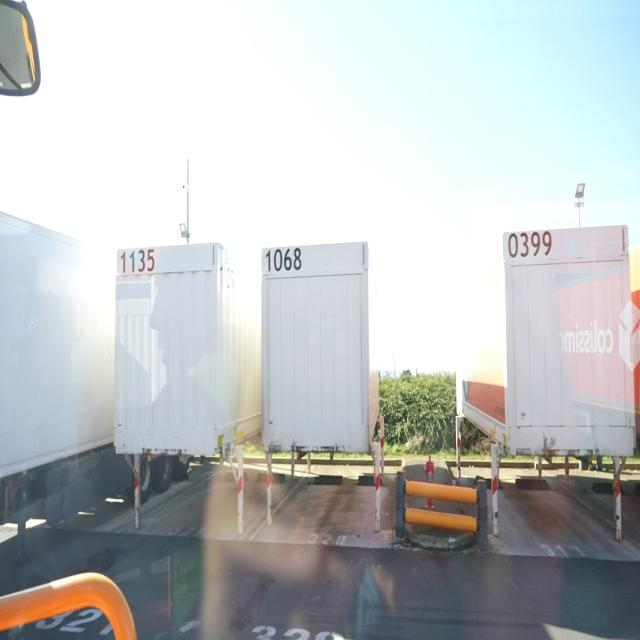Code: (504, 228, 554, 260), (262, 245, 304, 277), (118, 246, 158, 276)
